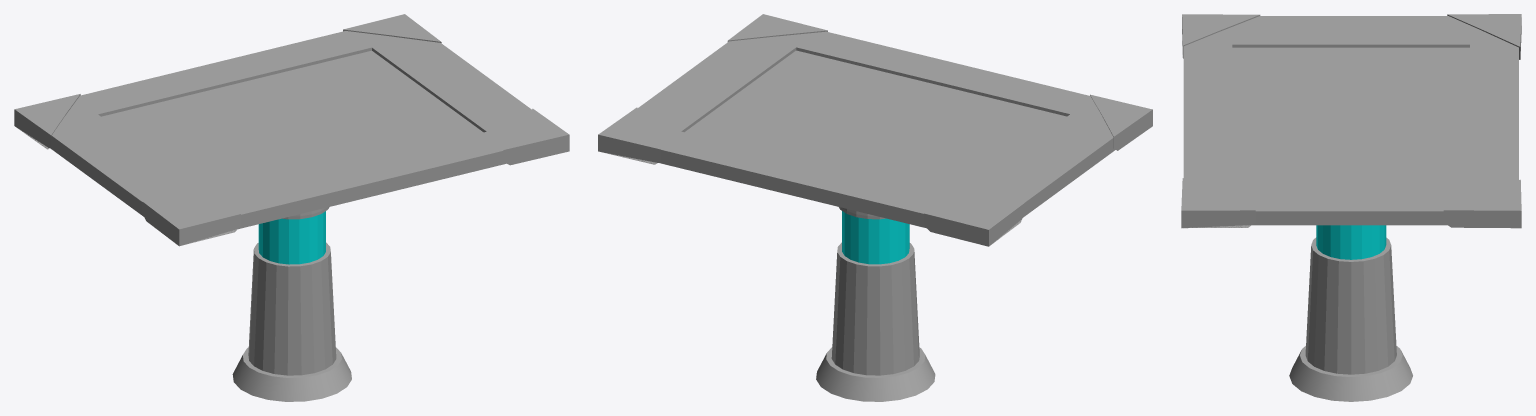
File: HumanTable.fbx
3 views of the same model, side by side, from view 1: azimuth 30°, elevation 25°; view 2: azimuth 150°, elevation 25°; view 3: azimuth 270°, elevation 25° (orthographic). The views are drawn at different scales.
Parts seen in each view (by area): view 1: pCube743; view 2: pCube743; view 3: pCube743.
Part boxes in pixels (bbox=[...]): pCube743: bbox=[14, 14, 569, 401]; pCube743: bbox=[598, 14, 1152, 401]; pCube743: bbox=[1181, 14, 1521, 401].
Size of the model in its own units: 1.64 by 1.02 by 1.2.
